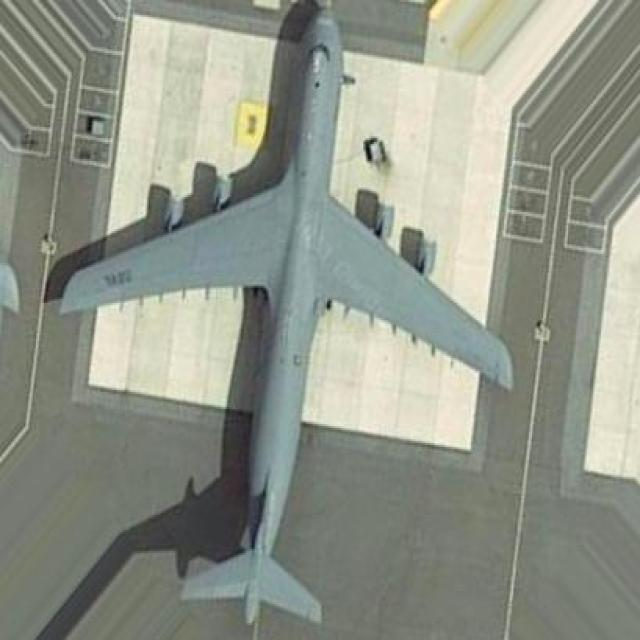C-5_TopDown: (30, 0, 515, 638)
